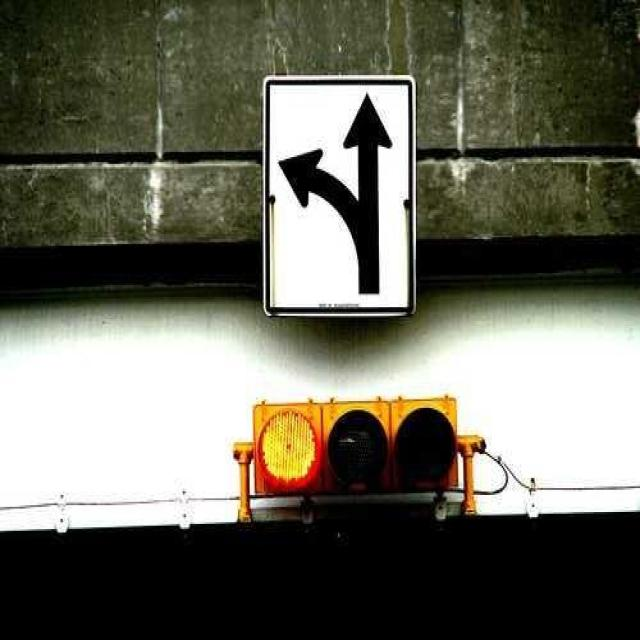Traffic Light -Red-: (240, 401, 464, 502)
